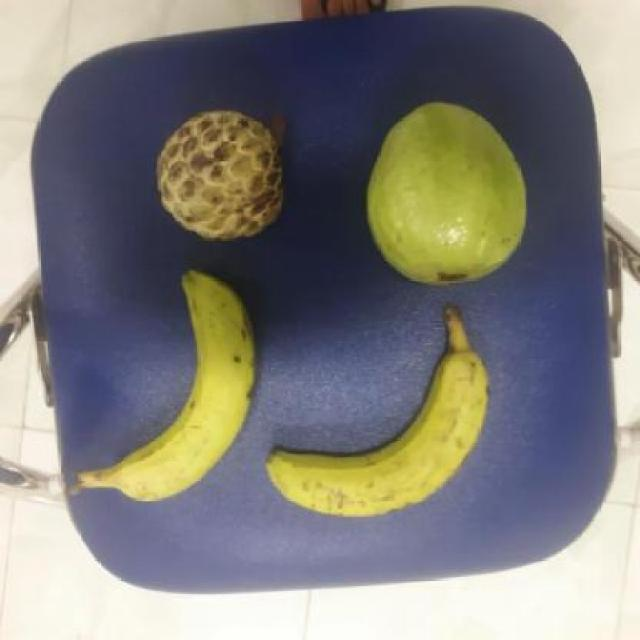banana: (267, 353, 491, 521), (106, 264, 256, 514)
guava: (360, 100, 532, 289)
sugar apple: (156, 104, 286, 248)
